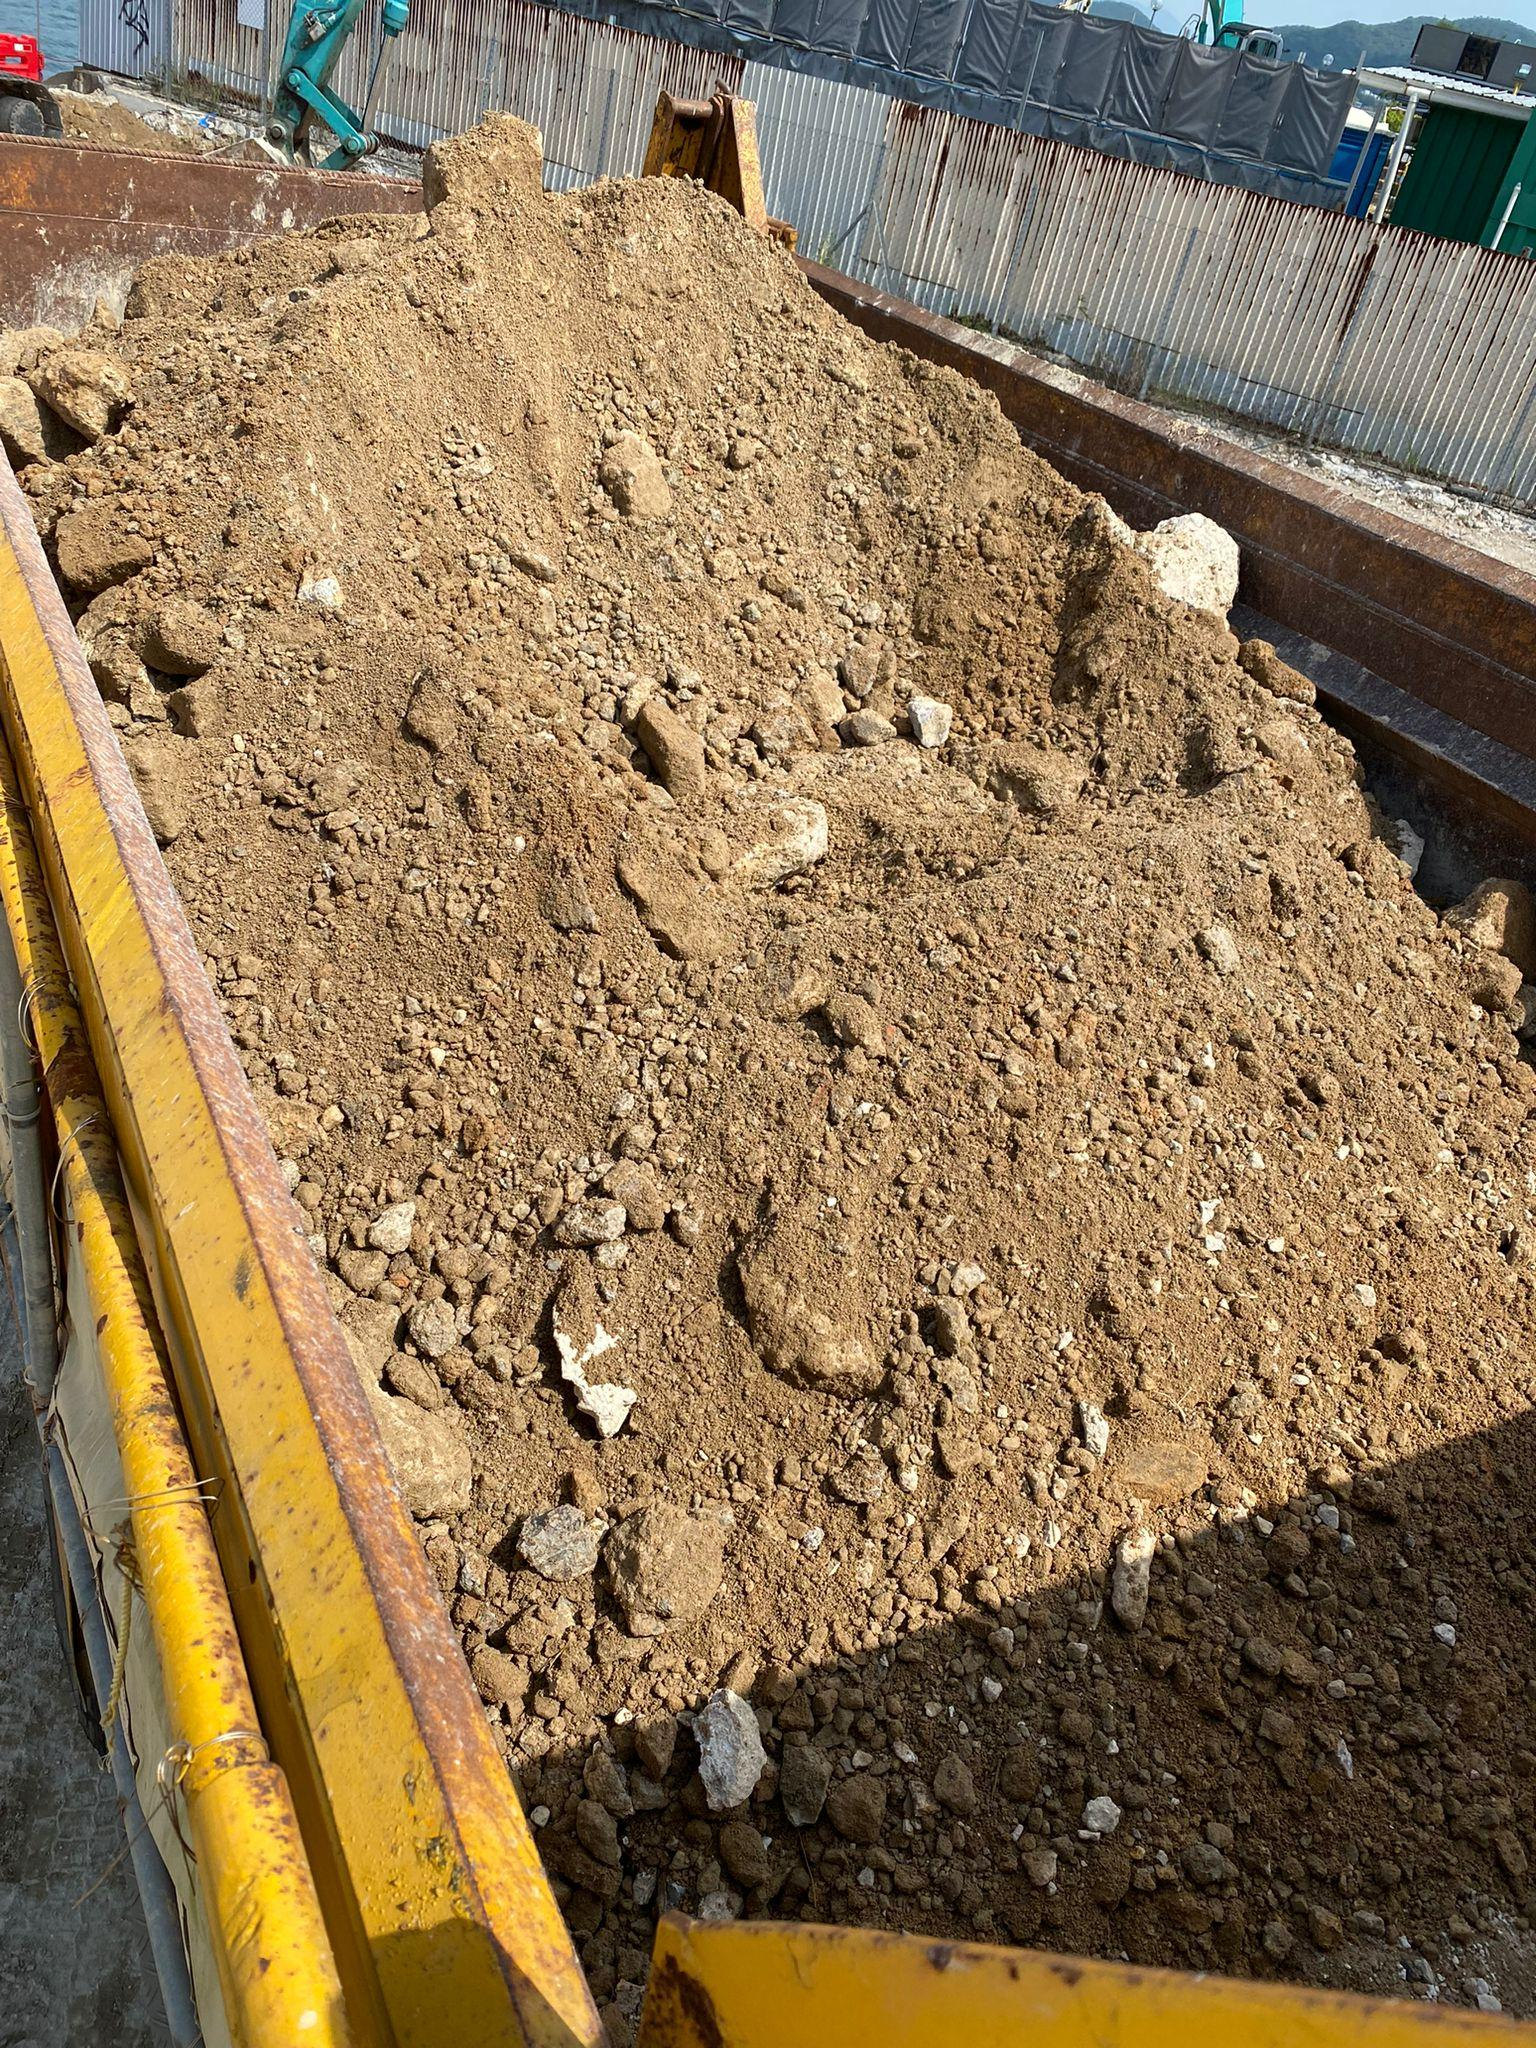dry: (13, 181, 1536, 1974)
